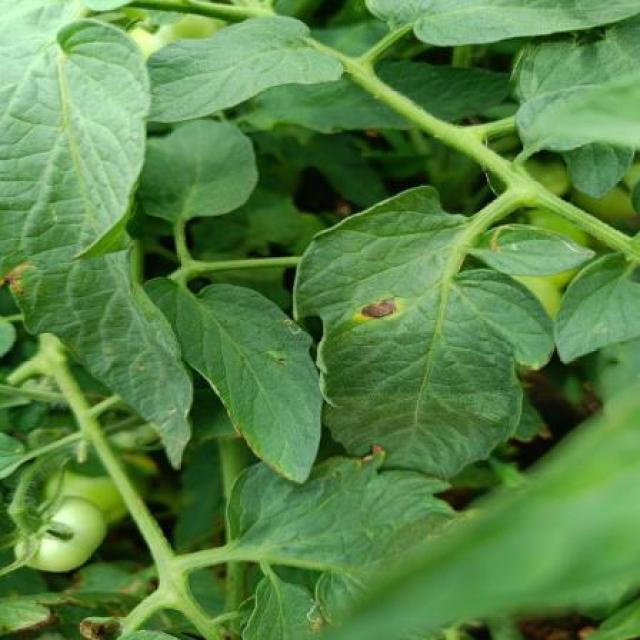Early Blight: (292, 176, 558, 479)
